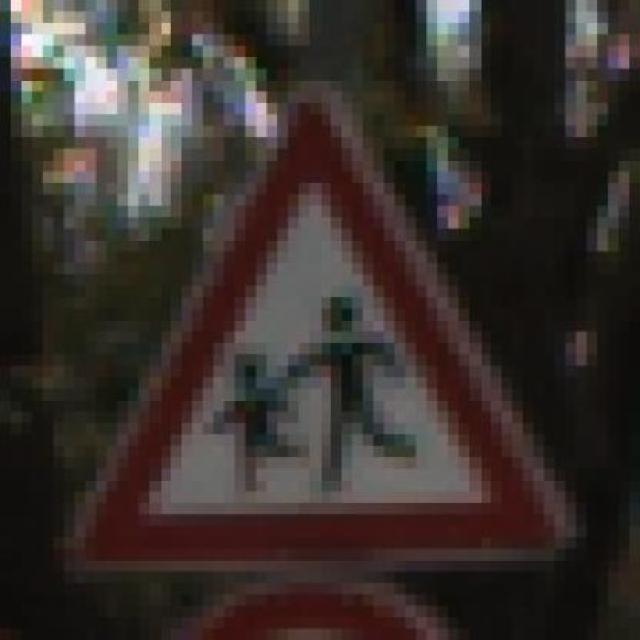Beware of children: (64, 66, 576, 580)
